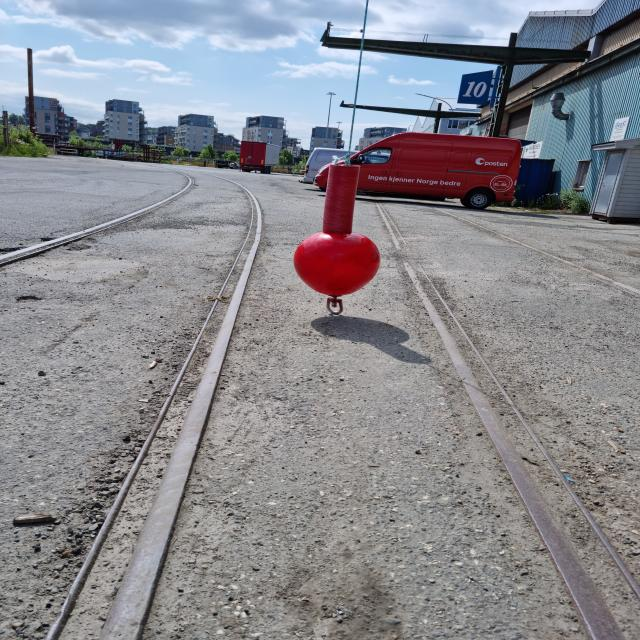red: (294, 164, 380, 296)
